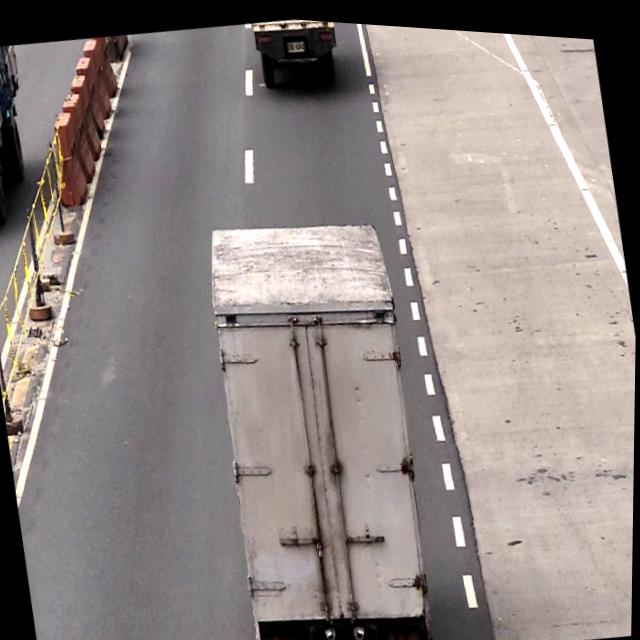License-Plate: (286, 31, 308, 55)
Truck: (201, 202, 447, 640), (248, 13, 339, 87)
